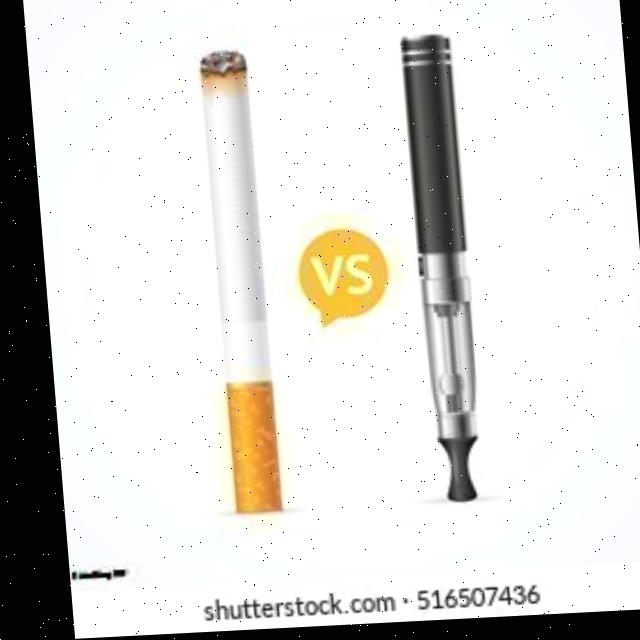cigarette: (199, 51, 277, 519)
vape: (398, 36, 481, 509)
